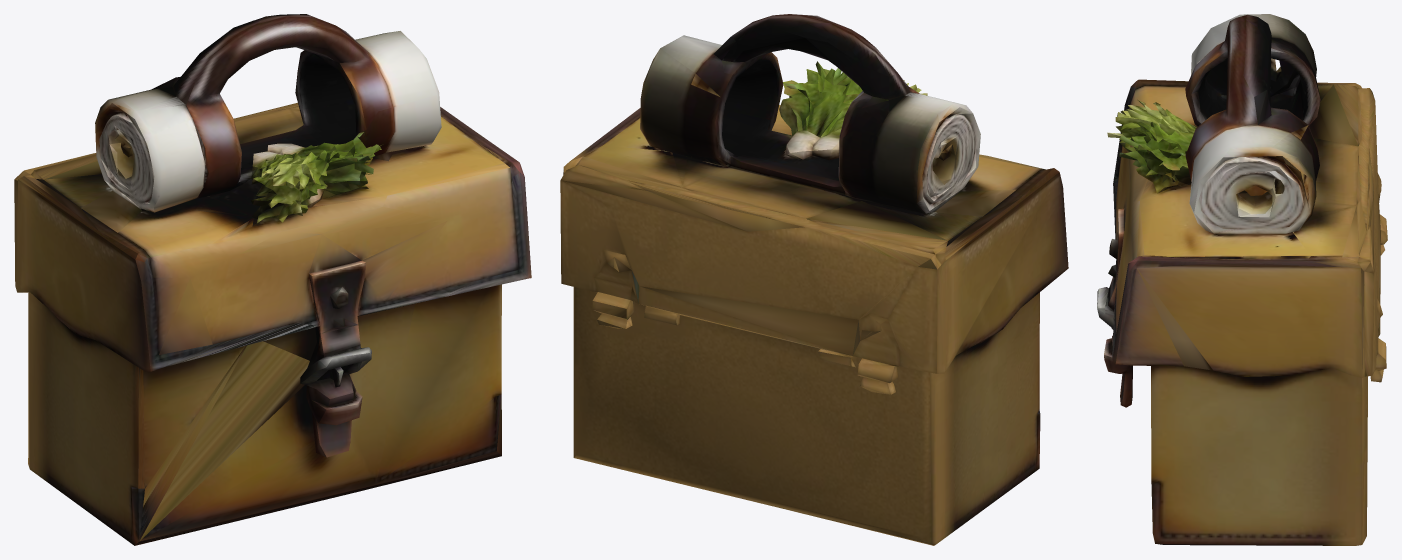
The model's file is prop-pickup-health.glb.
3 views of the same model, side by side, from view 1: azimuth 30°, elevation 25°; view 2: azimuth 150°, elevation 25°; view 3: azimuth 270°, elevation 25° (orthographic). The views are drawn at different scales.
Parts seen in each view (by area): view 1: prop-pickup-health; view 2: prop-pickup-health; view 3: prop-pickup-health.
Boxes of the visible parts, x1=… form: prop-pickup-health: x1=14, y1=14, x2=531, y2=545; prop-pickup-health: x1=560, y1=14, x2=1068, y2=545; prop-pickup-health: x1=1097, y1=14, x2=1387, y2=545.
Size of the model in its own units: 0.4219 by 0.4687 by 0.2836.
Materials: 1 (1 with a texture image).
